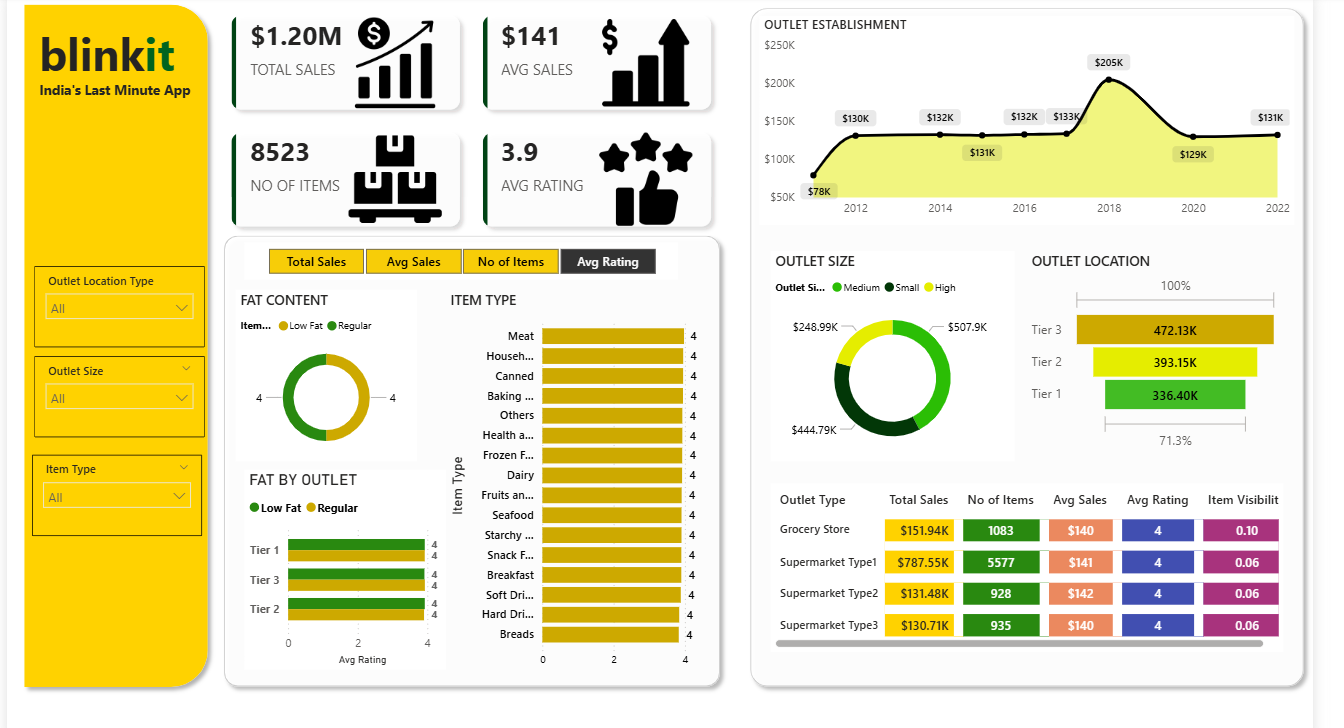

The dashboard page shown, as its layout file describes it:
{"tool":"powerbi","page":{"name":"Page 1","canvas":[1400,800],"ordinal":0},"visuals":[{"type":"shape","box":[10,0,215,750],"z":0},{"type":"textbox","box":[29.5,24.1,172.9,95.2],"z":1000},{"type":"textbox","box":[29.5,85.8,215.8,101.9],"z":2000},{"type":"cardVisual","fields":{"Data":["BlinkIT Grocery Data.Total Sales","BlinkIT Grocery Data.Avg Sales","BlinkIT Grocery Data.No of Items","BlinkIT Grocery Data.Avg Rating"]},"box":[223.9,4,549.6,260.1],"z":3000},{"type":"shape","box":[223.9,248,549.6,501.3],"z":4000},{"type":"donutChart","title":"FAT CONTENT","fields":{"Y":["BlinkIT Grocery Data.Avg Rating"],"Category":["BlinkIT Grocery Data.Item Fat Content"]},"box":[245.3,315,194.4,183.6],"z":5000},{"type":"slicer","fields":{"Values":["Metrics 2.Metrics"]},"box":[254.7,264.1,465.1,40.2],"z":6000},{"type":"clusteredBarChart","title":"FAT BY OUTLET","fields":{"Y":["BlinkIT Grocery Data.Avg Rating"],"Category":["BlinkIT Grocery Data.Outlet Location Type"],"Series":["BlinkIT Grocery Data.Item Fat Content"]},"box":[254.7,508,215.8,214.5],"z":7000},{"type":"barChart","title":"ITEM TYPE","fields":{"Y":["BlinkIT Grocery Data.Avg Rating"],"Category":["BlinkIT Grocery Data.Item Type"]},"box":[470.5,315,277.5,414.2],"z":8000},{"type":"shape","box":[788.2,4,611.3,745.3],"z":9000},{"type":"lineChart","title":"OUTLET ESTABLISHMENT","fields":{"Y":["BlinkIT Grocery Data.Total Sales"],"Category":["BlinkIT Grocery Data.Outlet Establishment Year"]},"box":[807,21.4,573.7,223.9],"z":10000},{"type":"donutChart","title":"OUTLET SIZE","fields":{"Y":["BlinkIT Grocery Data.Total Sales"],"Category":["BlinkIT Grocery Data.Outlet Size"]},"box":[819,273.5,261.4,225.2],"z":11000},{"type":"funnel","title":"OUTLET LOCATION","fields":{"Y":["Sum(BlinkIT Grocery Data.Sales)"],"Category":["BlinkIT Grocery Data.Outlet Location Type"]},"box":[1093.8,273.5,274.8,218.5],"z":12000},{"type":"pivotTable","fields":{"Rows":["BlinkIT Grocery Data.Outlet Type"],"Values":["BlinkIT Grocery Data.Total Sales","BlinkIT Grocery Data.No of Items","BlinkIT Grocery Data.Avg Sales","BlinkIT Grocery Data.Avg Rating","Avg(BlinkIT Grocery Data.Item Visibility)"]},"box":[819,522.8,549.6,181],"z":13000},{"type":"slicer","fields":{"Values":["BlinkIT Grocery Data.Outlet Location Type"]},"box":[29.5,289.5,182.3,87.1],"z":14000},{"type":"slicer","fields":{"Values":["BlinkIT Grocery Data.Outlet Size"]},"box":[29.5,386.1,182.3,87.1],"z":15000},{"type":"slicer","fields":{"Values":["BlinkIT Grocery Data.Item Type"]},"box":[26.8,492,182.3,87.1],"z":16000}]}

Visuals, with their boxes on the page's 1400x800 design canvas (x1, y1, x2, y2). These are canvas units, not pixel positions in the 1344x728 screenshot, which may show the page scaled, cropped or inside an application window:
shape: 10 0 225 750
textbox: 30 24 202 119
textbox: 30 86 245 188
cardVisual - BlinkIT Grocery Data.Total Sales x BlinkIT Grocery Data.Avg Sales: 224 4 774 264
shape: 224 248 774 749
"FAT CONTENT" donutChart: 245 315 440 499
slicer - Metrics 2.Metrics: 255 264 720 304
"FAT BY OUTLET" clusteredBarChart: 255 508 470 722
"ITEM TYPE" barChart: 470 315 748 729
shape: 788 4 1400 749
"OUTLET ESTABLISHMENT" lineChart: 807 21 1381 245
"OUTLET SIZE" donutChart: 819 274 1080 499
"OUTLET LOCATION" funnel: 1094 274 1369 492
pivotTable - BlinkIT Grocery Data.Outlet Type x BlinkIT Grocery Data.Total Sales: 819 523 1369 704
slicer - BlinkIT Grocery Data.Outlet Location Type: 30 290 212 377
slicer - BlinkIT Grocery Data.Outlet Size: 30 386 212 473
slicer - BlinkIT Grocery Data.Item Type: 27 492 209 579
